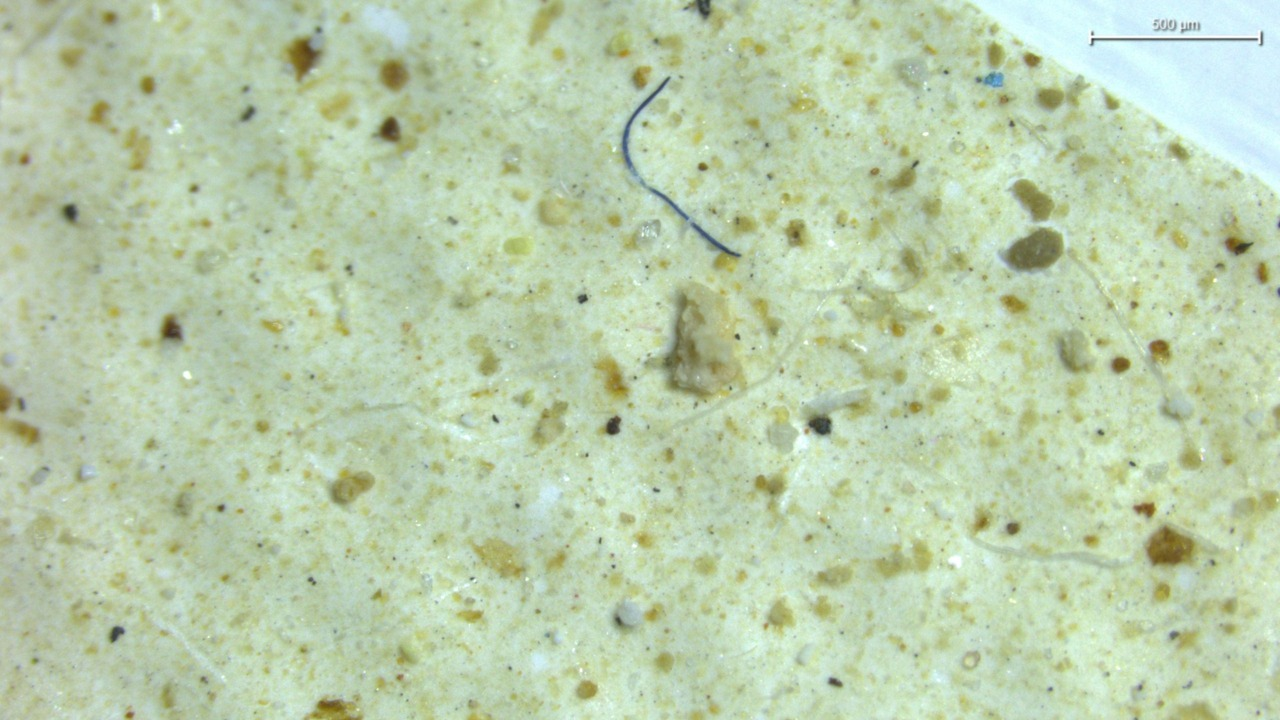microplastic_fragment: (670, 283, 741, 393), (1056, 329, 1096, 372), (615, 599, 643, 626)
